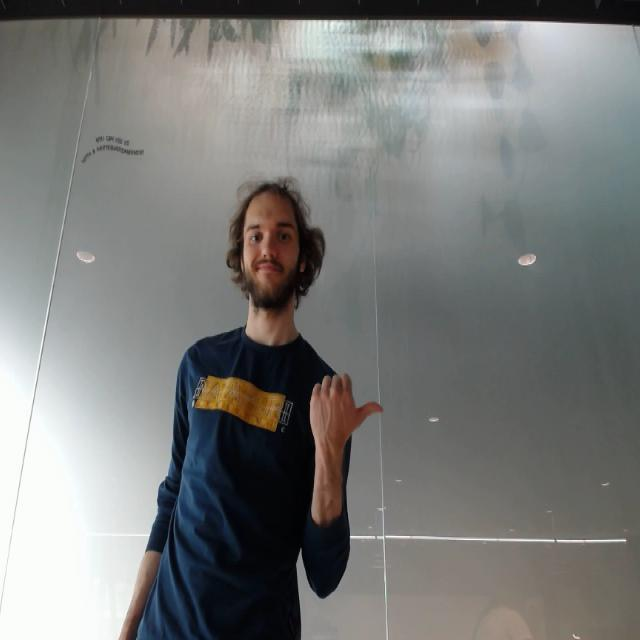right: (307, 370, 388, 454)
